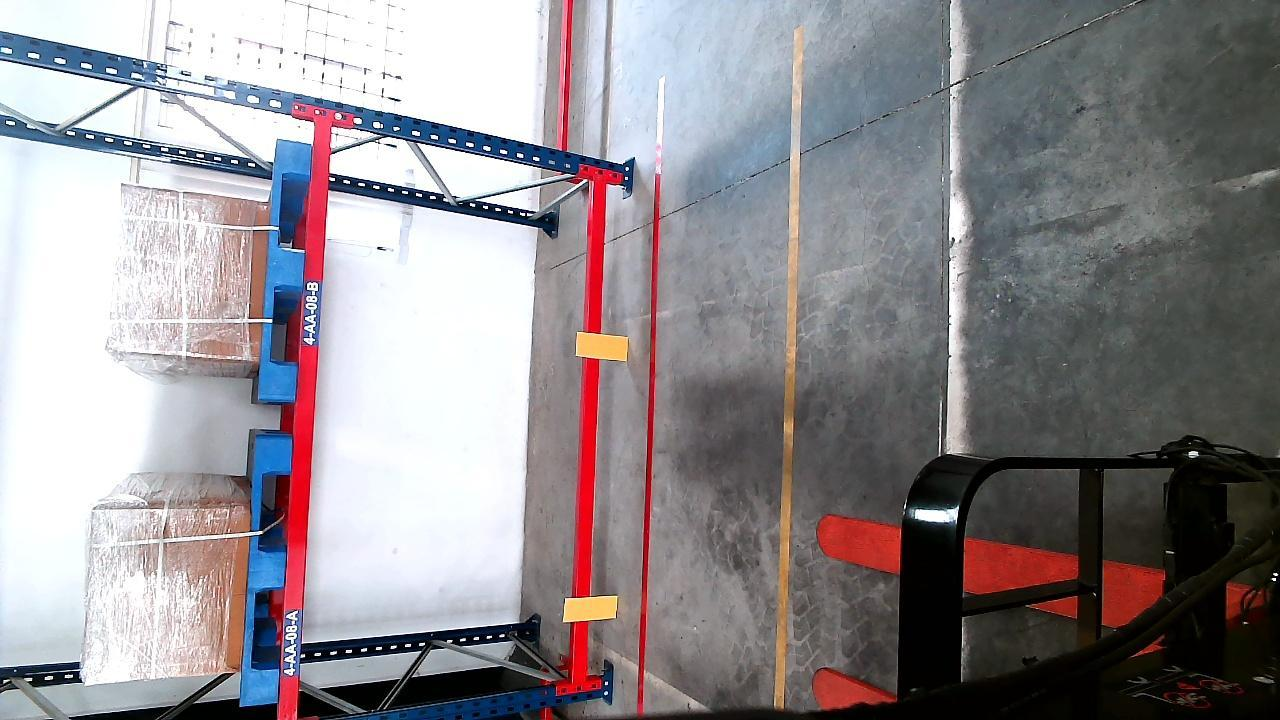red_line: (630, 169, 669, 714)
yellow_line: (774, 51, 806, 712)
